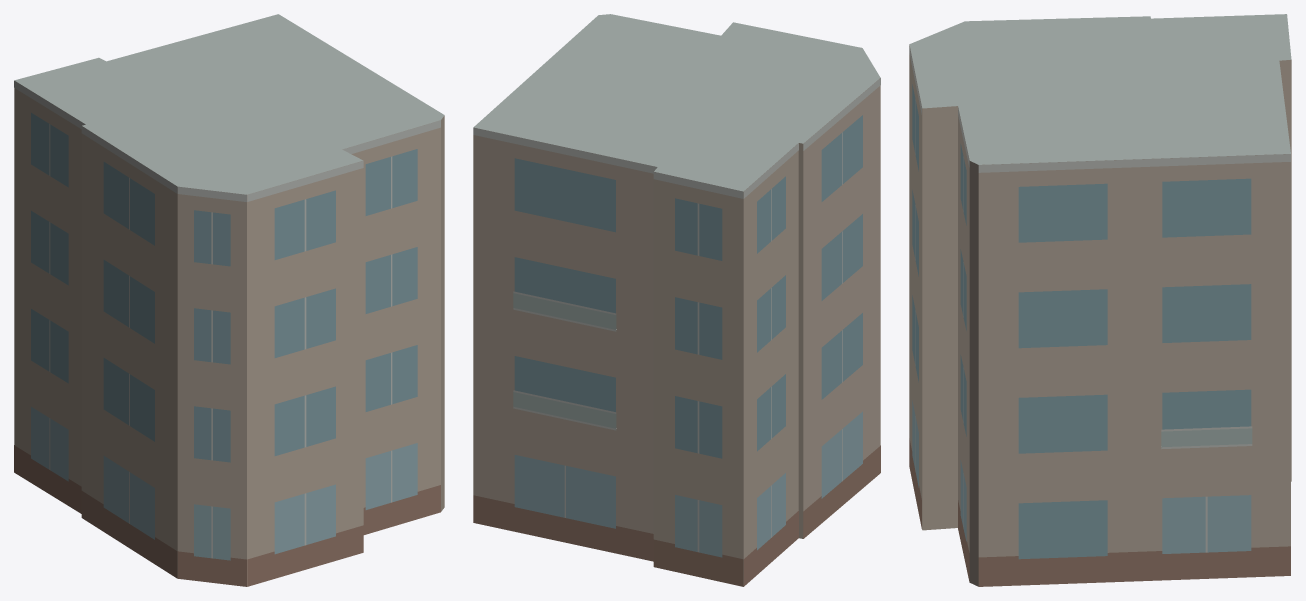
Rendered from survey-upis-33032019.glb.
3 views of the same model, side by side, from view 1: azimuth 30°, elevation 25°; view 2: azimuth 150°, elevation 25°; view 3: azimuth 270°, elevation 25° (orthographic). The views are drawn at different scales.
Parts seen in each view (by area): view 1: survey-upis-33032019.tmp; view 2: survey-upis-33032019.tmp; view 3: survey-upis-33032019.tmp.
Boxes of the visible parts, box(x1,y1,x2,y2) form: survey-upis-33032019.tmp: box(14, 14, 444, 586); survey-upis-33032019.tmp: box(473, 14, 880, 586); survey-upis-33032019.tmp: box(909, 14, 1291, 586).
Bounding box in the file's own units: 9.9 × 12.9 × 10.6.
